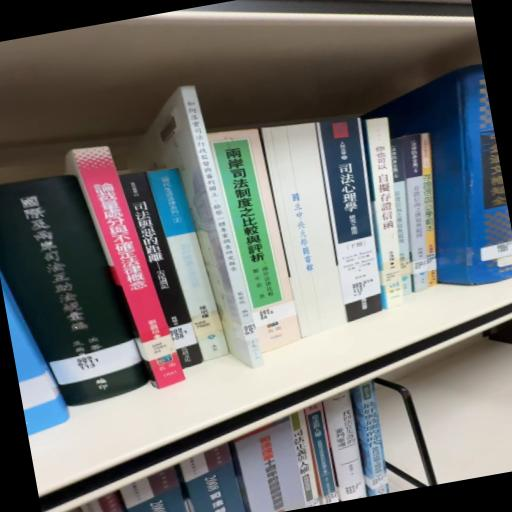backward: (265, 121, 355, 337)
book: (1, 164, 147, 412), (65, 136, 192, 401), (378, 64, 512, 300), (151, 164, 235, 372), (313, 119, 395, 325), (207, 128, 294, 316)
